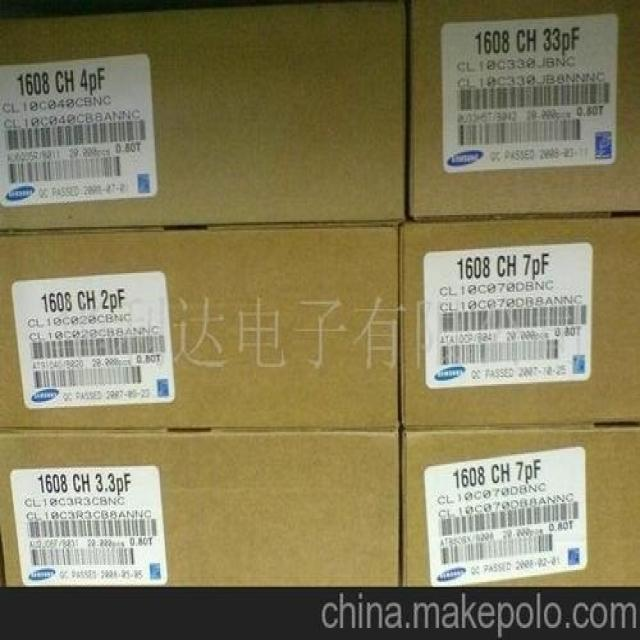box: (3, 0, 407, 230), (0, 225, 402, 432), (0, 432, 399, 587), (402, 215, 637, 432), (408, 0, 637, 222), (399, 423, 640, 589)
